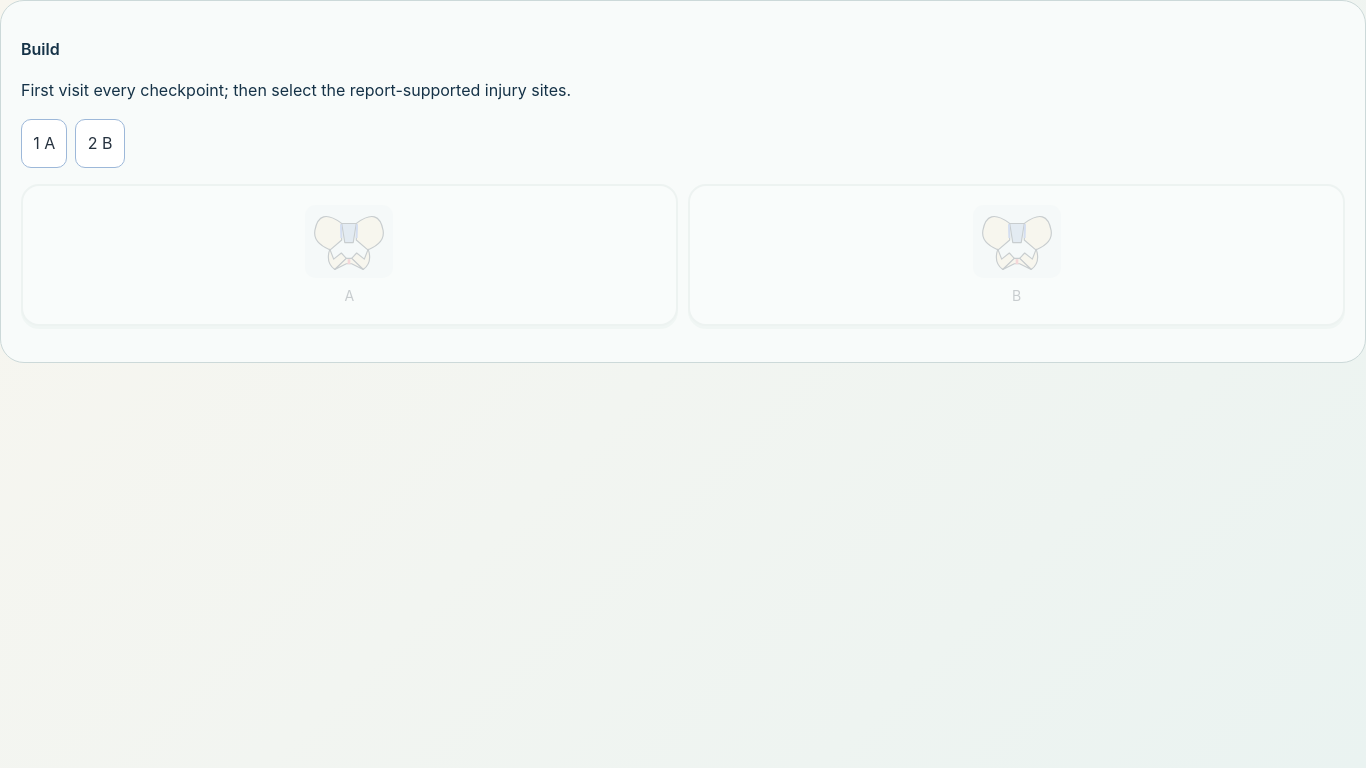
accessible boards › ring injury controls are disabled until checkpoints reviewed
The image size is (1366, 768).
Expected: the button "A" is disabled, left=21, top=184, right=678, bottom=326
Step 1. Click the button "1 A" → click(44, 143), box left=21, top=119, right=67, bottom=168
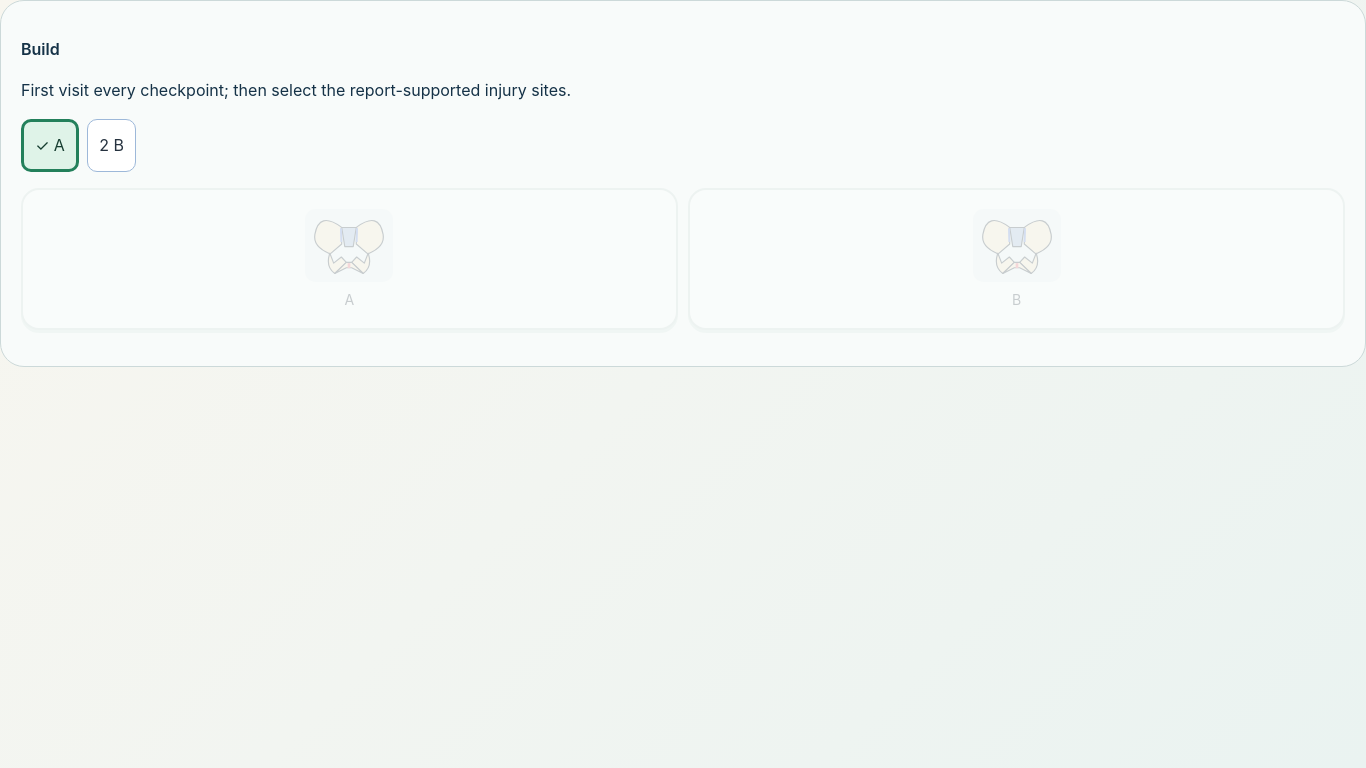
Step 2. Click the button "2 B" → click(112, 145), box left=87, top=119, right=136, bottom=172
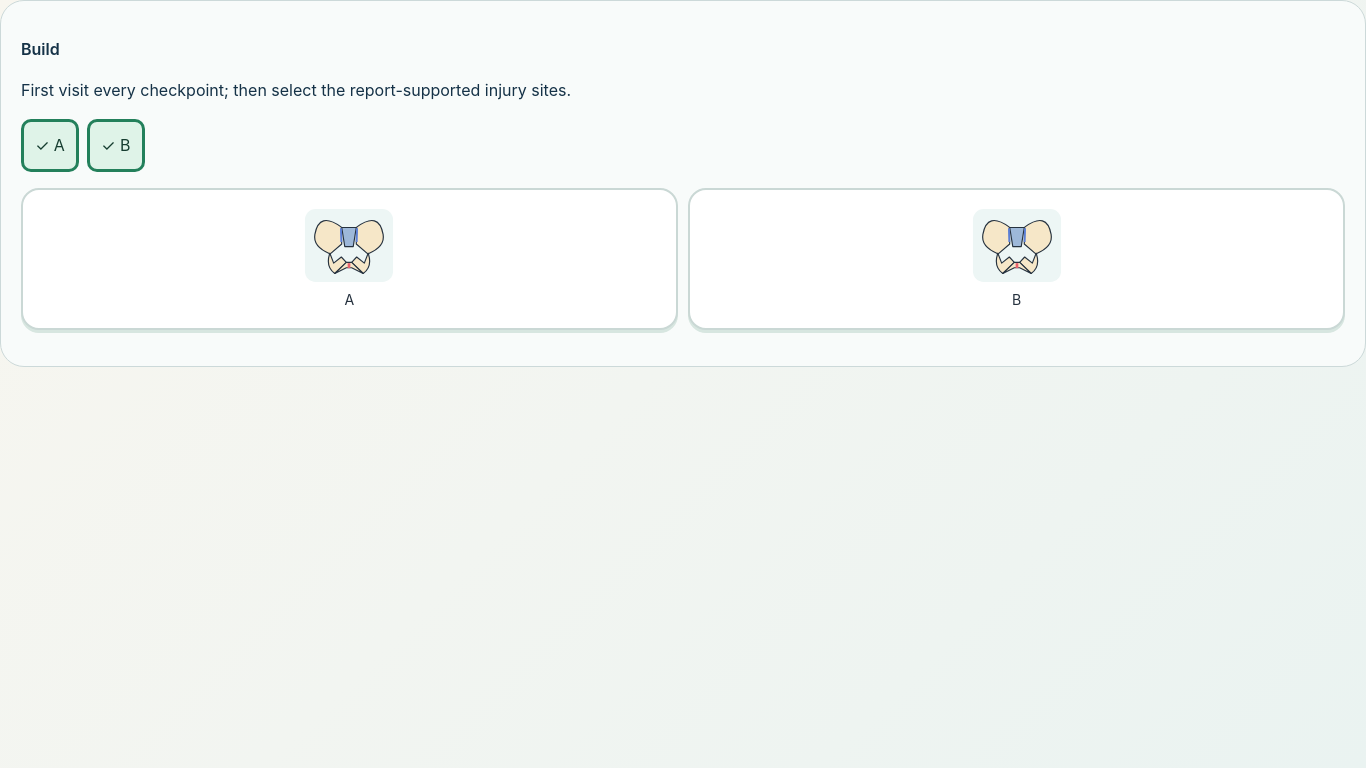
Expected: the button "A" is enabled, left=21, top=188, right=678, bottom=330
